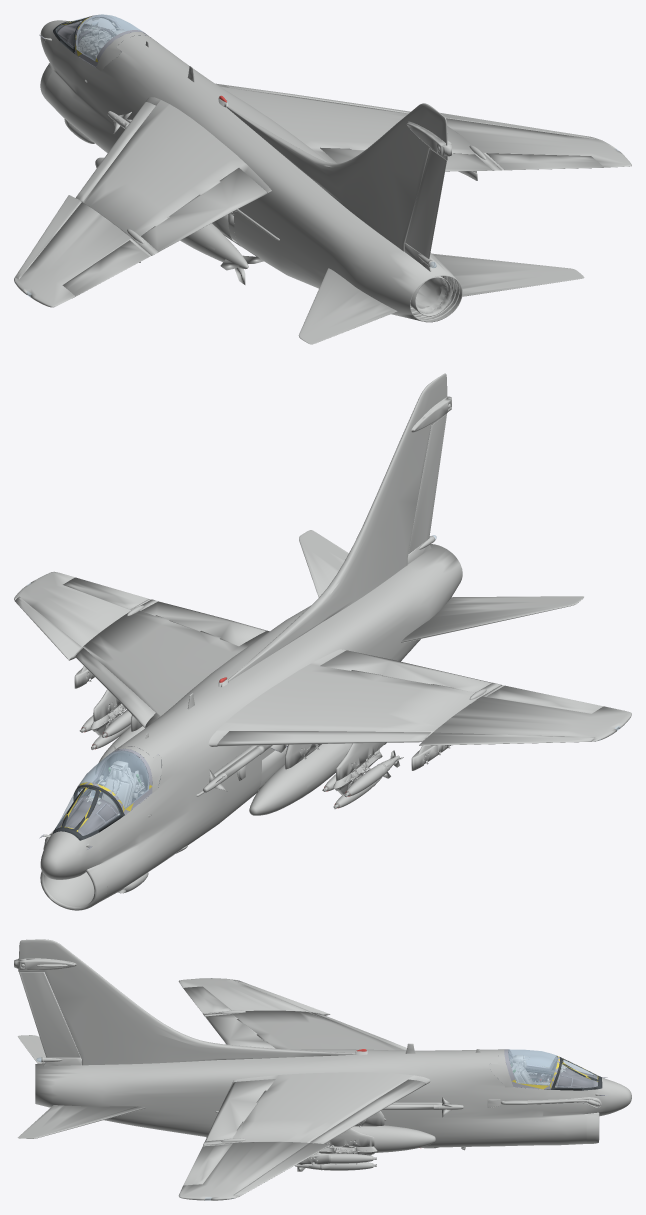
The picture shows the model from 3 angles, top to bottom: view 1: azimuth 30°, elevation 25°; view 2: azimuth 150°, elevation 25°; view 3: azimuth 270°, elevation 25°; orthographic projection. The views are drawn at different scales.
Visible parts, largest first — view 1: Canopy_open_close; view 2: Canopy_open_close; view 3: Canopy_open_close.
Boxes of the visible parts, <box> form: Canopy_open_close: <box>14,14,631,344</box>; Canopy_open_close: <box>14,373,631,910</box>; Canopy_open_close: <box>14,939,631,1200</box>.
Bounding box in the file's own units: 13.23 × 5.83 × 15.64.
Materials: 2 (2 with a texture image).
